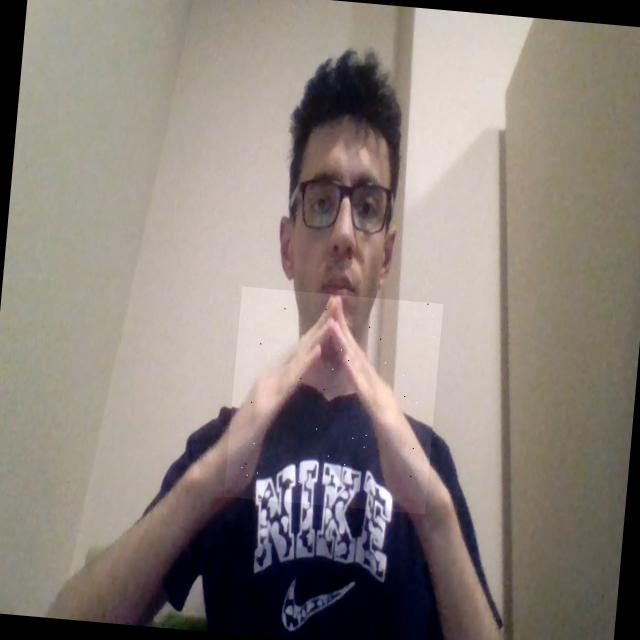house: (223, 286, 443, 516)
